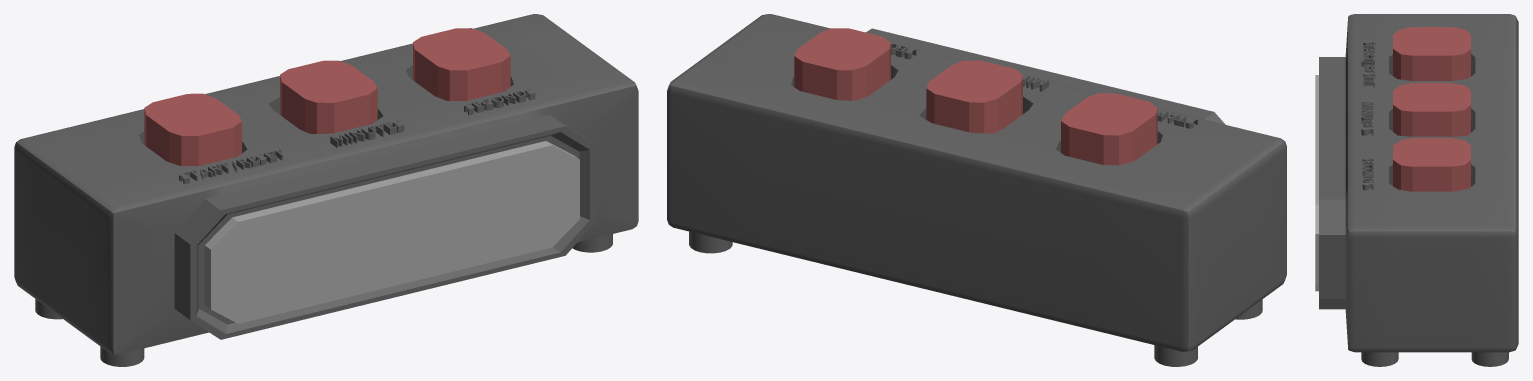
Rendered from TimerFinal.fbx.
The picture shows the model from 3 angles, left to right: view 1: azimuth 30°, elevation 25°; view 2: azimuth 150°, elevation 25°; view 3: azimuth 270°, elevation 25°; orthographic projection. The views are drawn at different scales.
Visible parts, largest first — view 1: SM_TimerBaser, SM_TimerFace, SM_ButtonMiddle, SM_ButtonRight, SM_ButtonLeft; view 2: SM_TimerBaser, SM_ButtonMiddle, SM_ButtonRight, SM_ButtonLeft; view 3: SM_TimerBaser, SM_ButtonMiddle, SM_ButtonLeft, SM_ButtonRight, SM_TimerFace.
Boxes of the visible parts, x1,y1,x2,y2 form: SM_TimerBaser: (14, 14, 638, 366); SM_TimerFace: (204, 141, 579, 323); SM_ButtonMiddle: (280, 60, 377, 133); SM_ButtonRight: (413, 28, 510, 100); SM_ButtonLeft: (144, 93, 241, 165); SM_TimerBaser: (667, 14, 1286, 366); SM_ButtonMiddle: (926, 60, 1022, 133); SM_ButtonRight: (794, 28, 890, 100); SM_ButtonLeft: (1061, 93, 1157, 165); SM_TimerBaser: (1319, 14, 1518, 366); SM_ButtonMiddle: (1393, 83, 1470, 136); SM_ButtonLeft: (1393, 27, 1470, 80); SM_ButtonRight: (1393, 138, 1470, 191); SM_TimerFace: (1315, 75, 1318, 291).
Size of the model in its own units: 30 by 10.56 by 11.75.
